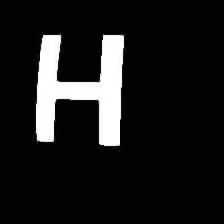LTR_H: (25, 21, 135, 154)
